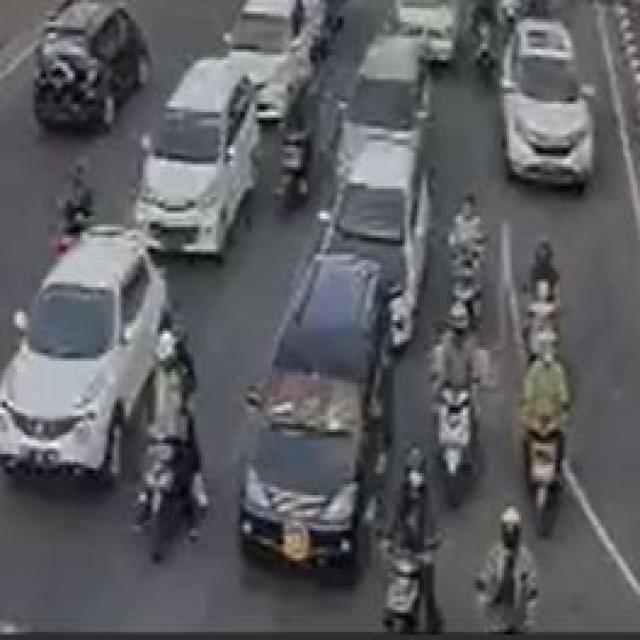car: (238, 256, 405, 588), (0, 224, 167, 494), (129, 53, 268, 270), (497, 19, 600, 183), (15, 0, 150, 121), (338, 32, 439, 181)
motorbike: (124, 320, 233, 586), (377, 446, 438, 640), (521, 359, 577, 511), (438, 325, 483, 496), (485, 517, 536, 640)
